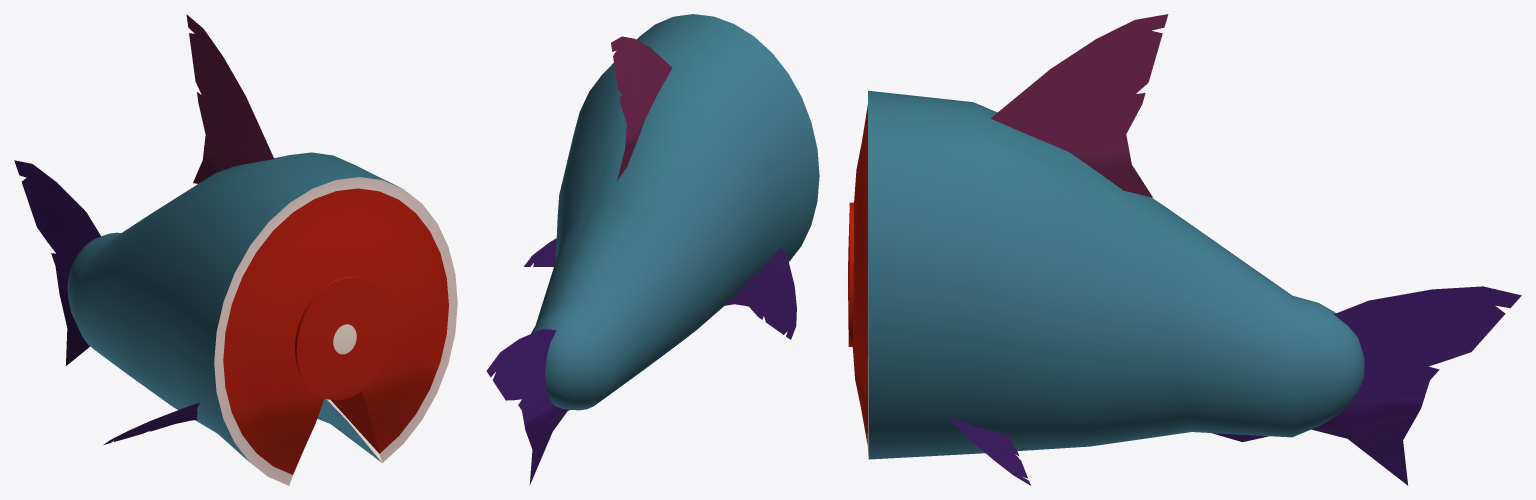
The model's file is Peixe.glb.
The picture shows the model from 3 angles, left to right: view 1: azimuth 30°, elevation 25°; view 2: azimuth 150°, elevation 25°; view 3: azimuth 270°, elevation 25°; orthographic projection. The views are drawn at different scales.
Parts seen in each view (by area): view 1: Peixe; view 2: Peixe; view 3: Peixe.
Boxes of the visible parts, <box> form: Peixe: <box>14,14,457,485</box>; Peixe: <box>486,14,819,485</box>; Peixe: <box>848,14,1521,485</box>.
Bounding box in the file's own units: 1.1 × 1.47 × 1.87.
1 material, 1 textured.
